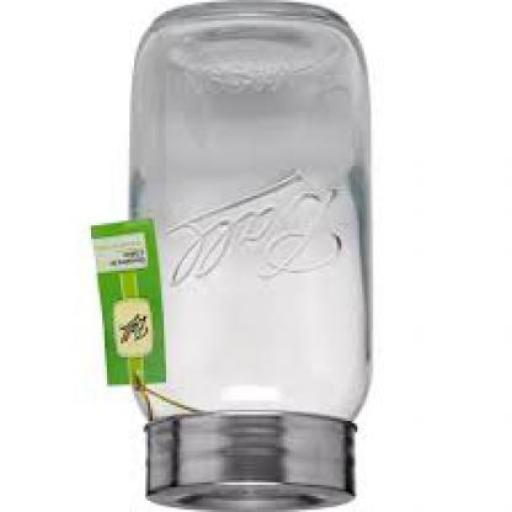glass: (132, 2, 375, 426)
metal: (145, 418, 361, 511)
paper: (93, 223, 170, 387)
